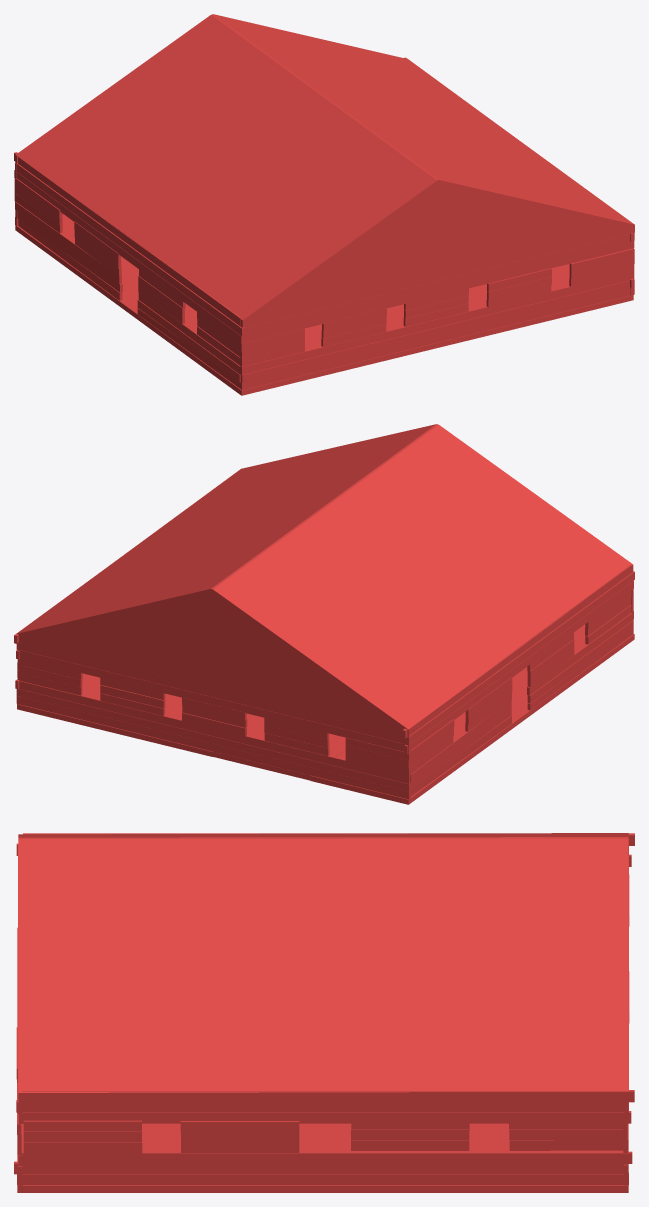
File: Maison_2.fbx
3 views of the same model, one above another, from view 1: azimuth 30°, elevation 25°; view 2: azimuth 150°, elevation 25°; view 3: azimuth 270°, elevation 25° (orthographic). The views are drawn at different scales.
Parts seen in each view (by area): view 1: Maison_a_finir; view 2: Maison_a_finir; view 3: Maison_a_finir.
Boxes of the visible parts, x1,y1,x2,y2 form: Maison_a_finir: [14, 14, 634, 395]; Maison_a_finir: [14, 424, 634, 804]; Maison_a_finir: [14, 833, 634, 1192].
Bounding box in the file's own units: 80.6 × 32.72 × 81.26.
